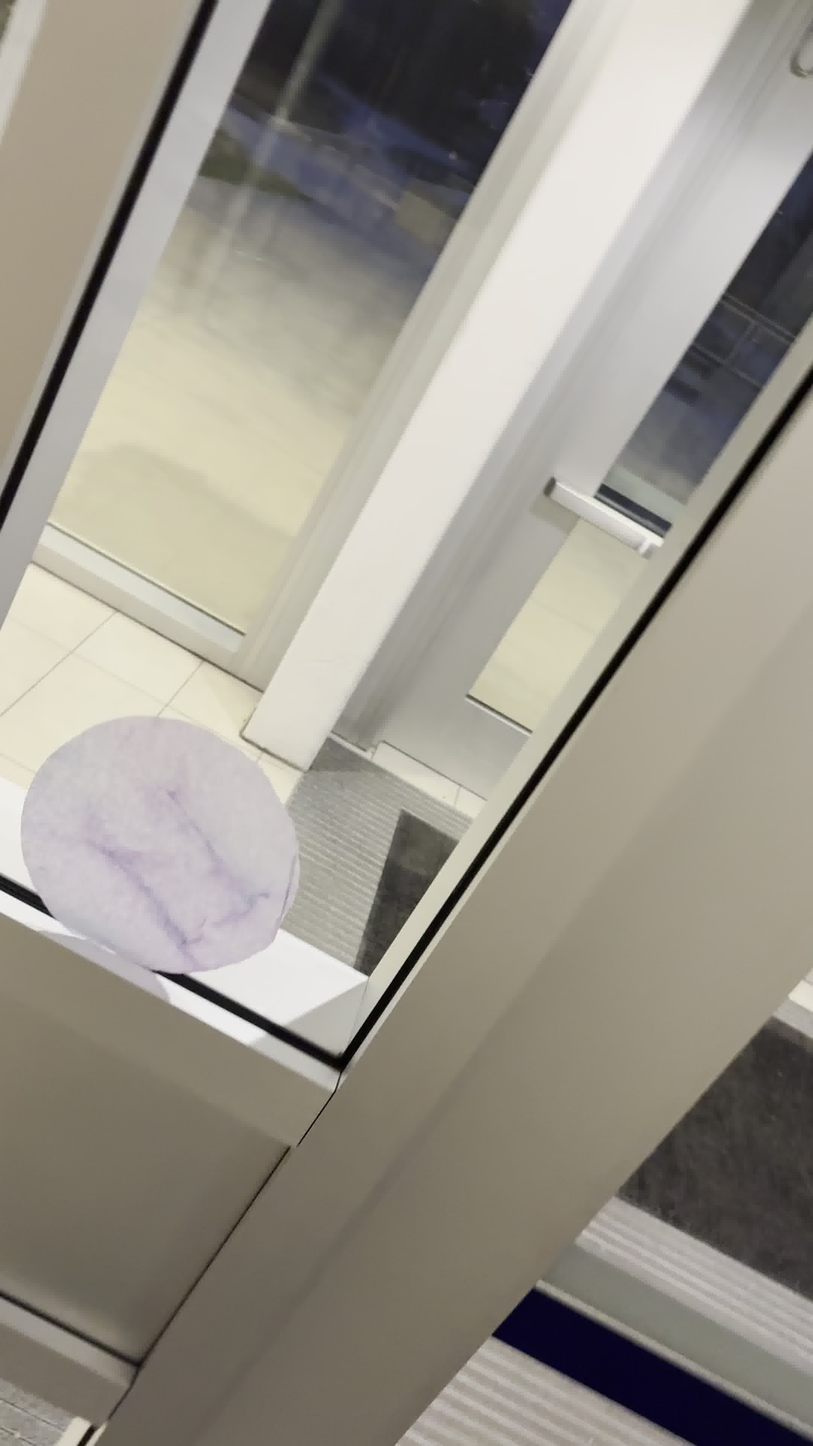Target: (17, 710, 301, 975)
